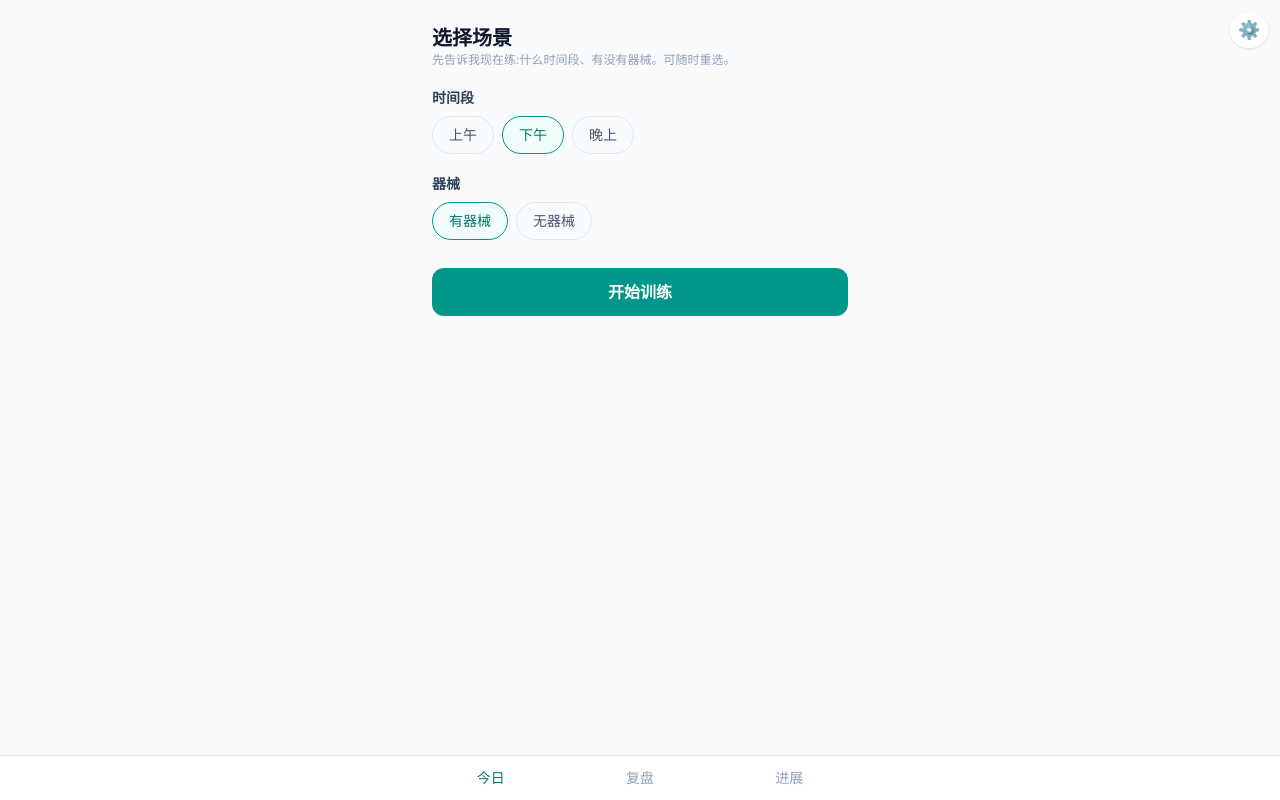
Test: App shell(已确认) › 点击复盘 Tab 显示复盘表单
Check: the heading "选择场景" is shown, box [432, 26, 512, 50]
Click the button "复盘" at (640, 778), box [565, 756, 715, 799]
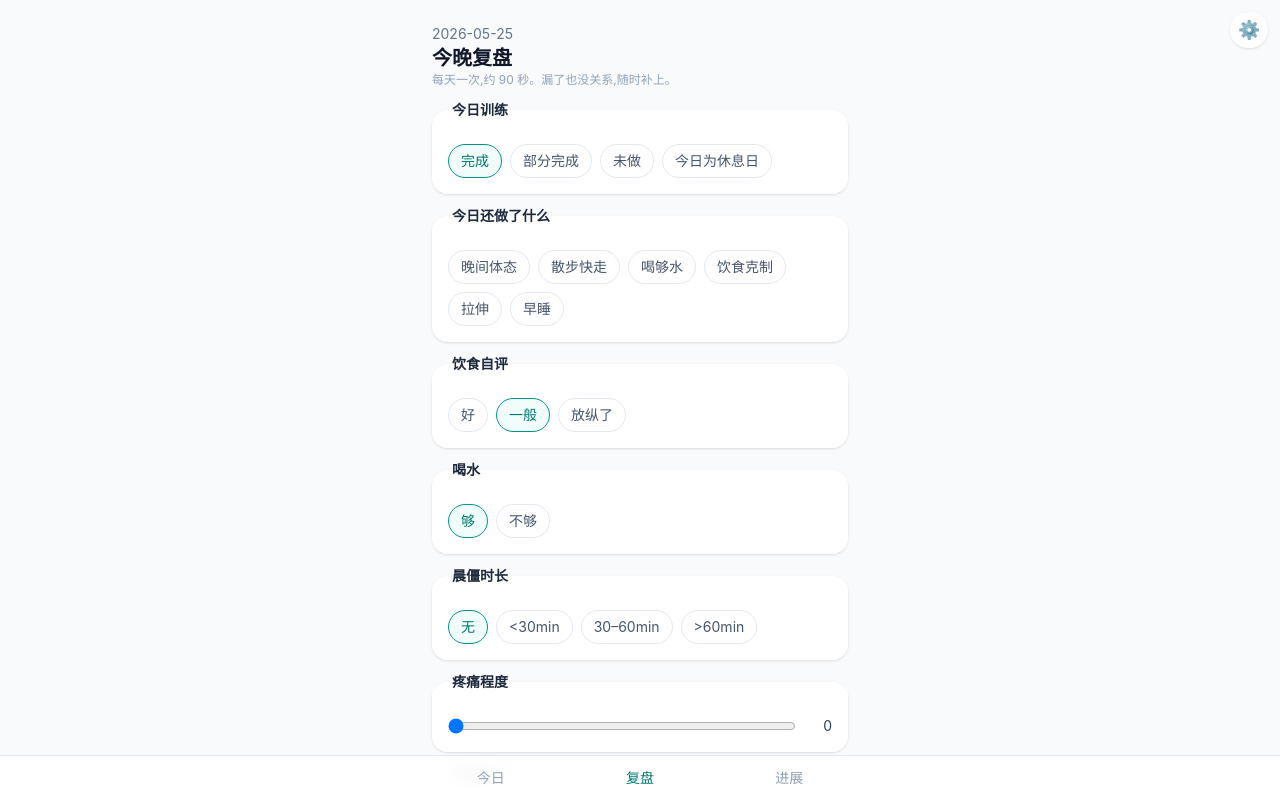
Check: the heading "今晚复盘" is shown, box [432, 46, 512, 70]
